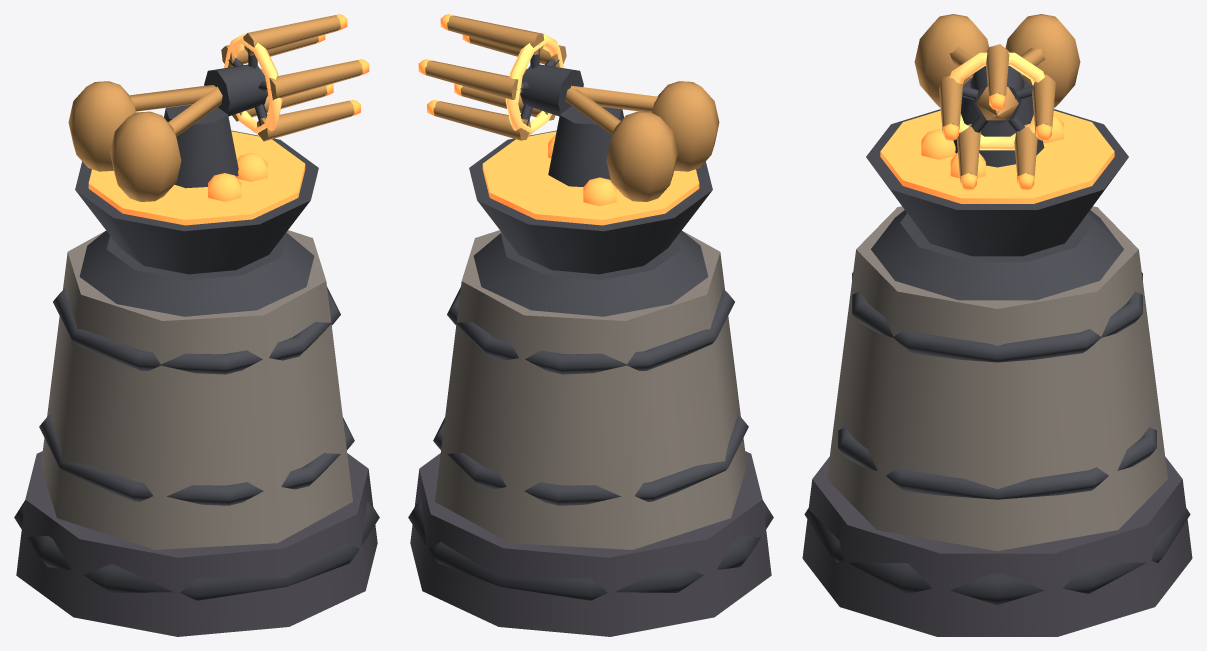
File: tower_flame_firestorm.glb
3 views of the same model, side by side, from view 1: azimuth 30°, elevation 25°; view 2: azimuth 150°, elevation 25°; view 3: azimuth 270°, elevation 25° (orthographic). The views are drawn at different scales.
Visible parts, largest first — view 1: body, base, brazier_foot, brazier_bowl, coals, soot_ring, body_band_0.3, gas_tank_l, body_band_0.15, gas_tank_r, nozzle_post, wheel_hub (+10 smaller); view 2: body, base, brazier_foot, brazier_bowl, coals, soot_ring, body_band_0.3, gas_tank_r, body_band_0.15, gas_tank_l, nozzle_post, wheel_hub (+9 smaller); view 3: body, base, brazier_foot, brazier_bowl, coals, body_band_0.3, soot_ring, body_band_0.15, gas_tank_l, gas_tank_r, nozzle_post, wheel_ring (+8 smaller).
Boxes of the visible parts, x1,y1,x2,y2 form: body: [41, 230, 352, 549]; base: [16, 451, 377, 636]; brazier_foot: [79, 230, 314, 316]; brazier_bowl: [75, 130, 318, 274]; coals: [88, 131, 305, 225]; soot_ring: [14, 500, 379, 600]; body_band_0.3: [53, 287, 340, 374]; gas_tank_l: [110, 111, 181, 201]; body_band_0.15: [39, 414, 354, 505]; gas_tank_r: [68, 81, 135, 171]; nozzle_post: [164, 104, 238, 188]; wheel_hub: [204, 64, 267, 116]; body: [435, 230, 746, 549]; base: [410, 451, 771, 636]; brazier_foot: [473, 230, 708, 316]; brazier_bowl: [469, 130, 712, 274]; coals: [482, 131, 699, 225]; soot_ring: [408, 500, 773, 600]; body_band_0.3: [447, 287, 734, 374]; gas_tank_r: [606, 111, 677, 201]; body_band_0.15: [433, 414, 748, 505]; gas_tank_l: [652, 81, 719, 171]; nozzle_post: [548, 106, 623, 186]; wheel_hub: [520, 64, 583, 116]; body: [827, 206, 1167, 550]; base: [802, 457, 1192, 636]; brazier_foot: [871, 210, 1123, 300]; brazier_bowl: [866, 109, 1128, 256]; coals: [880, 110, 1114, 203]; body_band_0.3: [852, 272, 1142, 362]; soot_ring: [804, 508, 1190, 604]; body_band_0.15: [838, 427, 1156, 499]; gas_tank_l: [914, 14, 988, 107]; gas_tank_r: [1005, 14, 1080, 107]; nozzle_post: [953, 76, 1044, 167]; wheel_ring: [949, 52, 1044, 150].
Size of the model in its own units: 0.396 by 0.6127 by 0.4.
